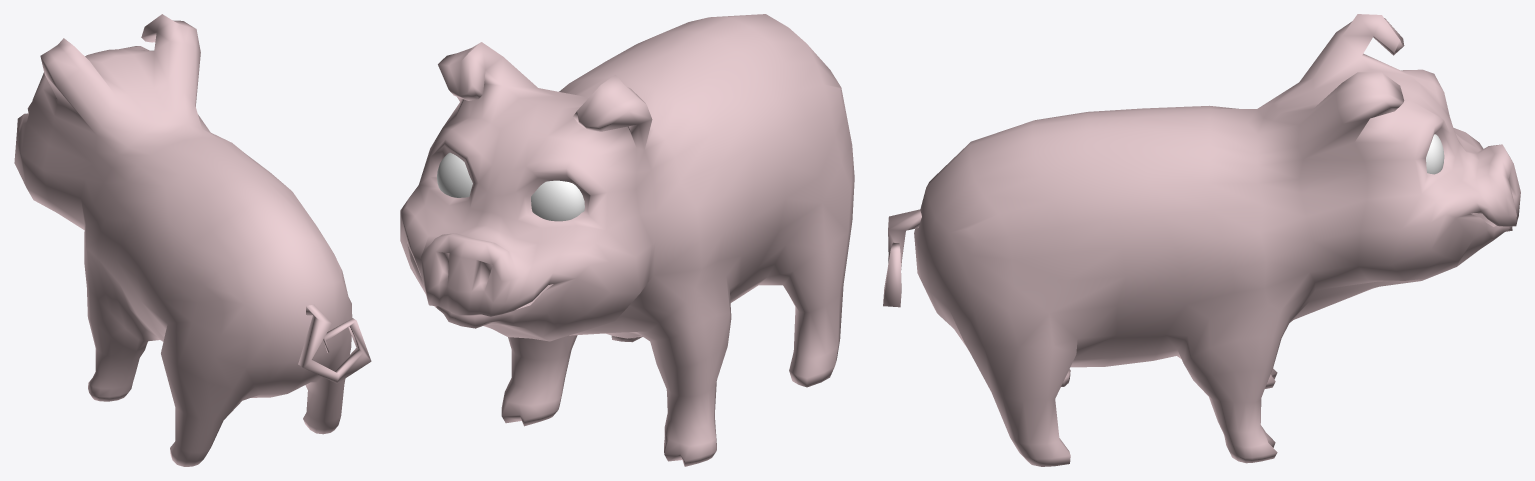
File: pig.fbx
3 renders of one model, left to right at view 1: azimuth 30°, elevation 25°; view 2: azimuth 150°, elevation 25°; view 3: azimuth 270°, elevation 25°, orthographic. The views are drawn at different scales.
Visible parts, largest first — view 1: Cube, Plane; view 2: Cube, Sphere.001, Sphere; view 3: Cube, Plane.
Boxes of the visible parts, x1,y1,x2,y2 form: Cube: (14,14,352,466); Plane: (298,304,371,383); Cube: (400,14,854,466); Sphere.001: (531,180,584,221); Sphere: (437,152,472,197); Cube: (914,14,1520,466); Plane: (883,209,921,307).
Bounding box in the file's own units: 2.35 × 6.24 × 4.1.
